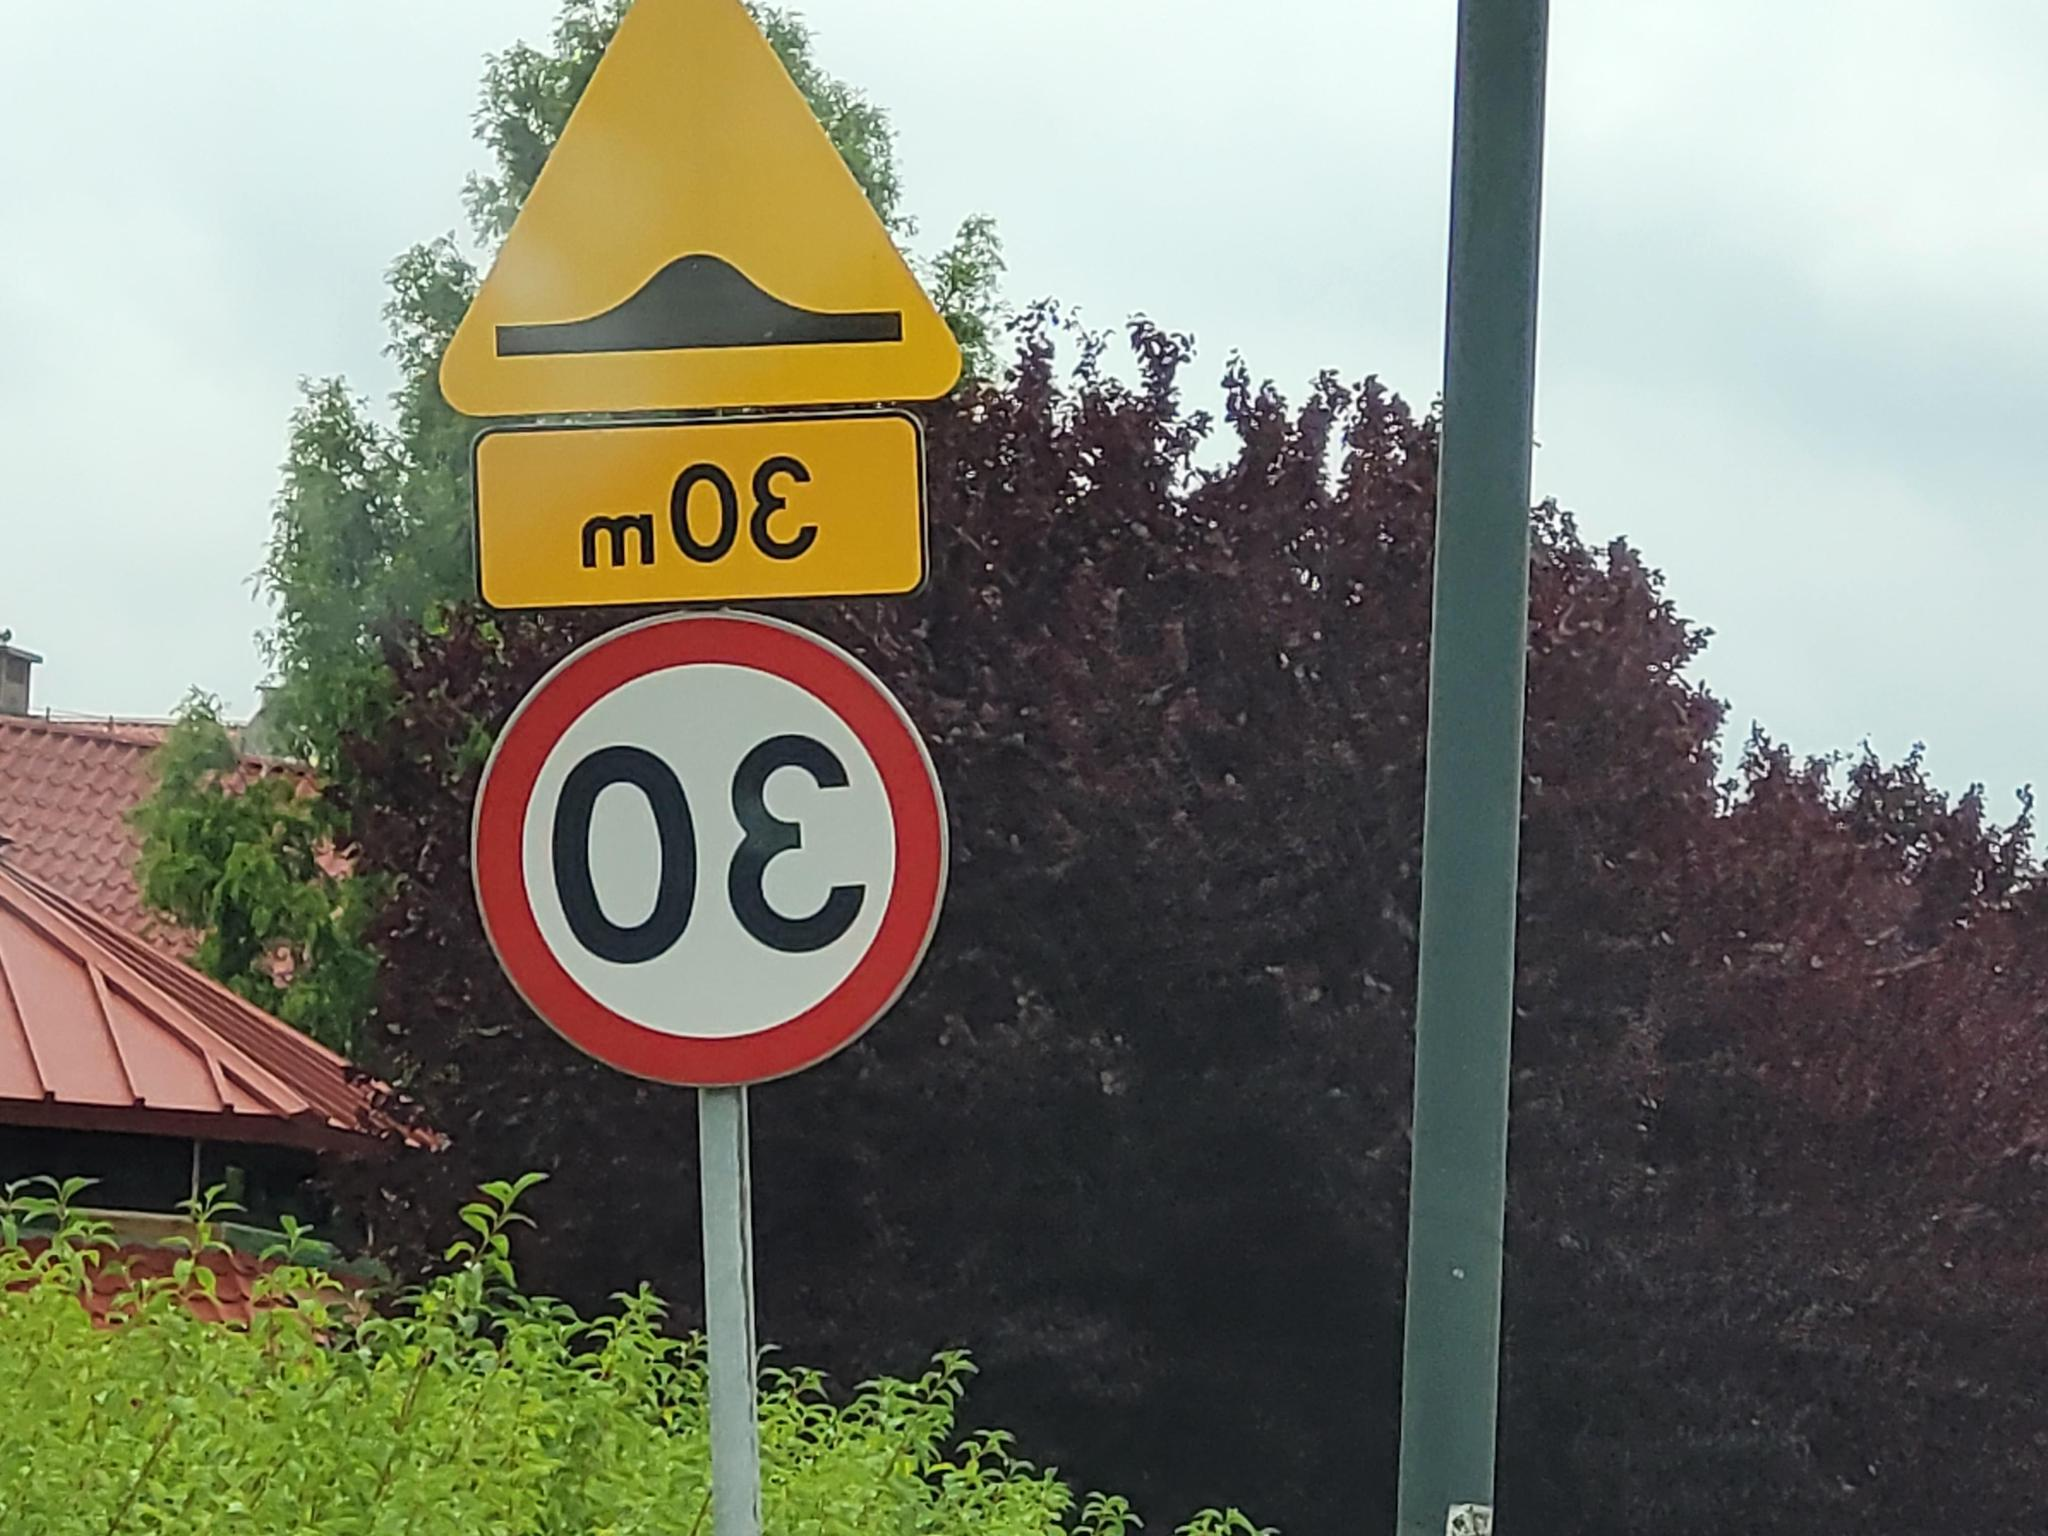other: (469, 411, 927, 616)
prohibitory: (463, 610, 953, 1094)
warning: (432, 0, 966, 419)
